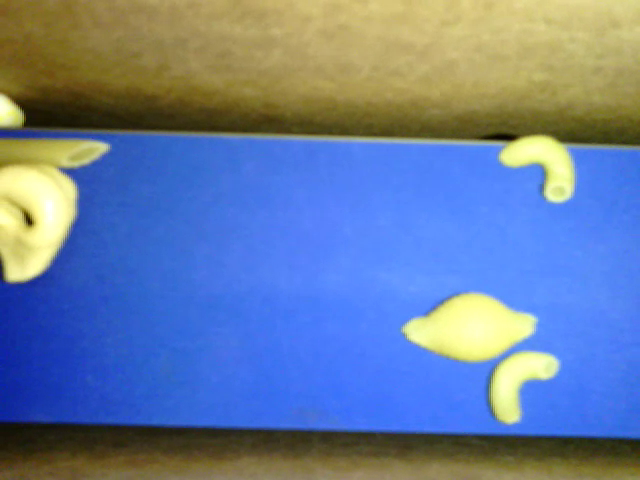elbow: (497, 134, 577, 203), (489, 349, 558, 426)
penne: (1, 137, 110, 169)
shell: (400, 292, 541, 361)
tortellini: (1, 161, 80, 283)
